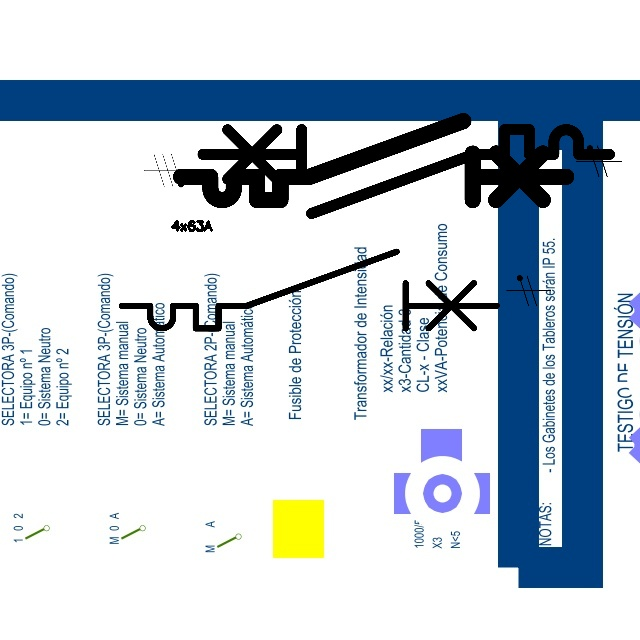interruptor_termomagnetico: (192, 119, 620, 224), (171, 111, 576, 210), (112, 242, 507, 338)
